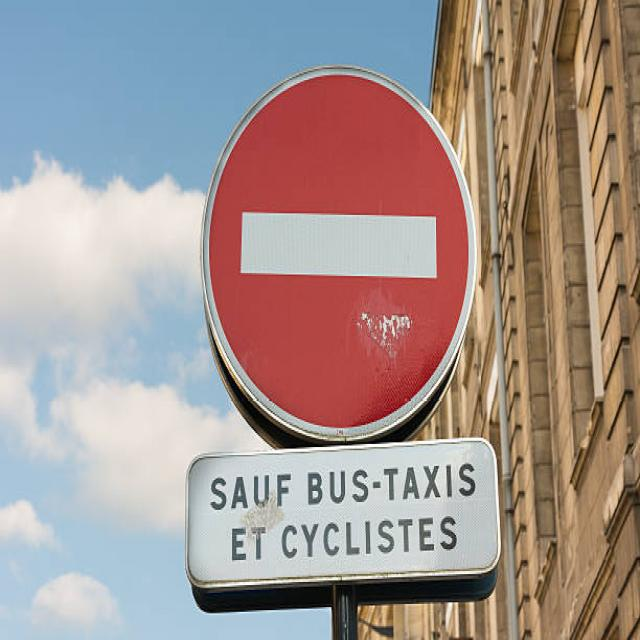do_not_enter: (196, 55, 481, 449)
